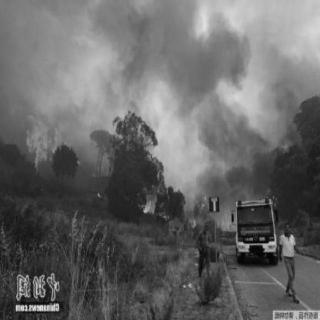Fire: (20, 106, 109, 174), (183, 190, 209, 234)
